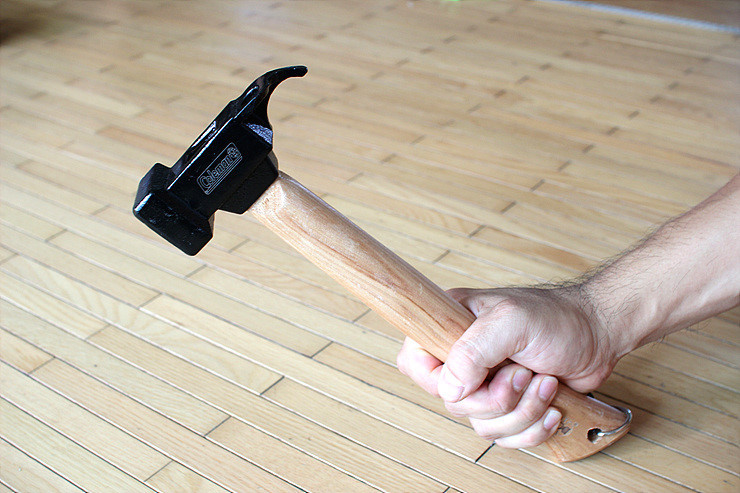hammer: (116, 58, 639, 452)
